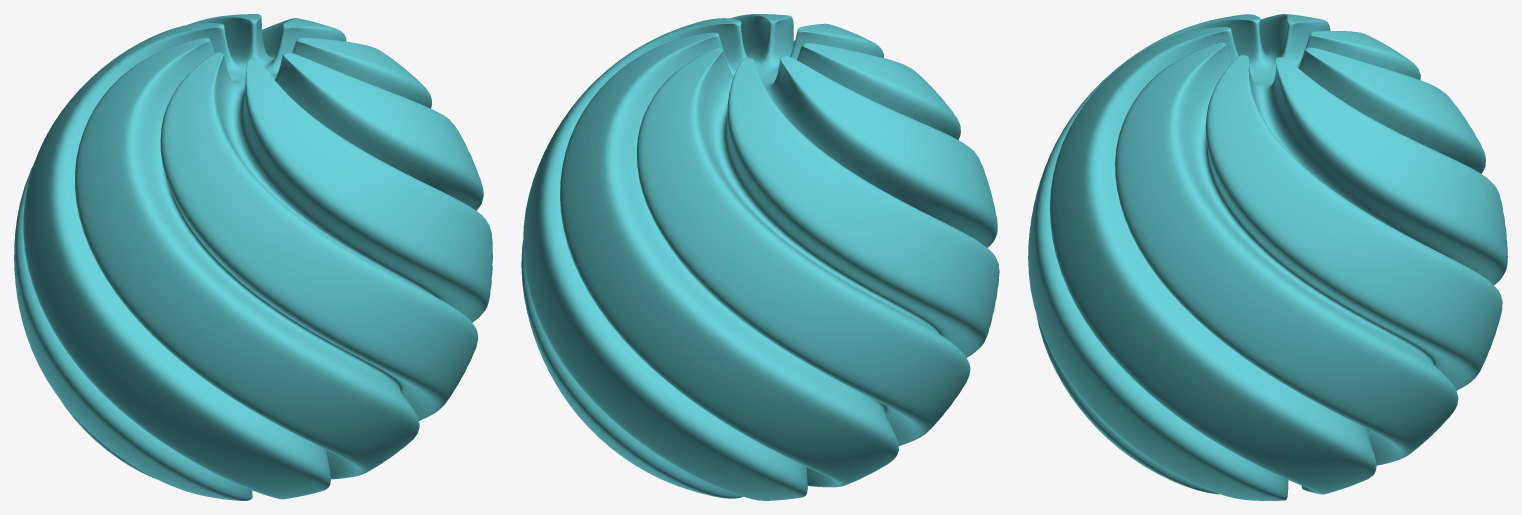
The model's file is grooves_light_blue_2.glb.
The picture shows the model from 3 angles, left to right: view 1: azimuth 30°, elevation 25°; view 2: azimuth 150°, elevation 25°; view 3: azimuth 270°, elevation 25°; orthographic projection.
Visible parts, largest first — view 1: Sphere.016; view 2: Sphere.016; view 3: Sphere.016.
Boxes of the visible parts, left/top/right/bottom form: Sphere.016: left=14, top=14, right=492, bottom=500; Sphere.016: left=521, top=14, right=999, bottom=500; Sphere.016: left=1028, top=14, right=1507, bottom=500.
Size of the model in its own units: 1.95 by 1.96 by 1.95.
